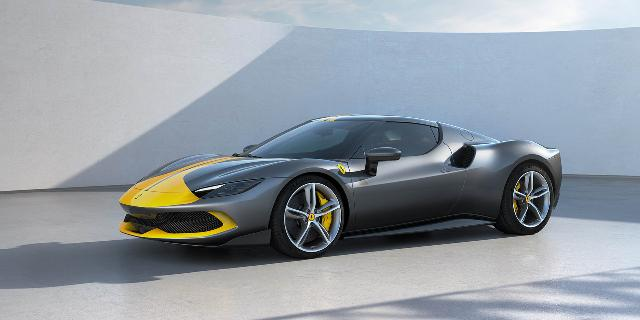ferrari: (118, 114, 562, 260)
